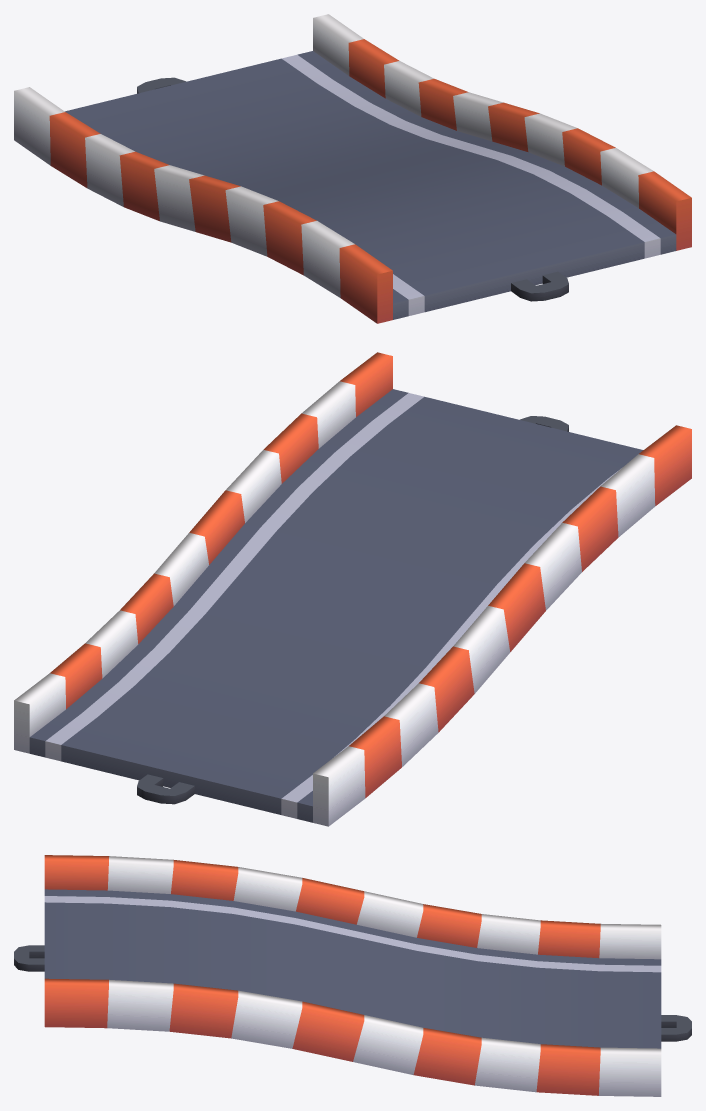
File: track-road-wide-straight-hill-complete-half.glb
3 views of the same model, one above another, from view 1: azimuth 30°, elevation 25°; view 2: azimuth 150°, elevation 25°; view 3: azimuth 270°, elevation 25° (orthographic). The views are drawn at different scales.
Visible parts, largest first — view 1: track-road-wide-straight-hill-complete-half; view 2: track-road-wide-straight-hill-complete-half; view 3: track-road-wide-straight-hill-complete-half.
Boxes of the visible parts, left/top/right/bottom form: track-road-wide-straight-hill-complete-half: left=14, top=14, right=691, bottom=323; track-road-wide-straight-hill-complete-half: left=14, top=352, right=691, bottom=826; track-road-wide-straight-hill-complete-half: left=14, top=855, right=691, bottom=1096.
Size of the model in its own units: 2 by 0.7998 by 4.4.
1 material, 1 textured.
